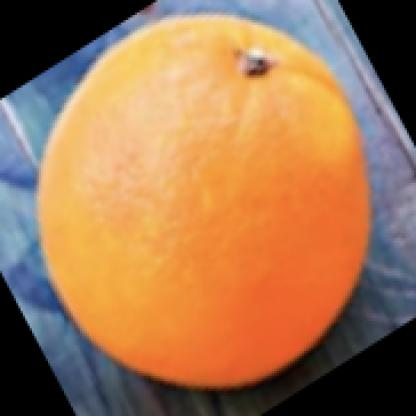fresh: (38, 13, 371, 394)
